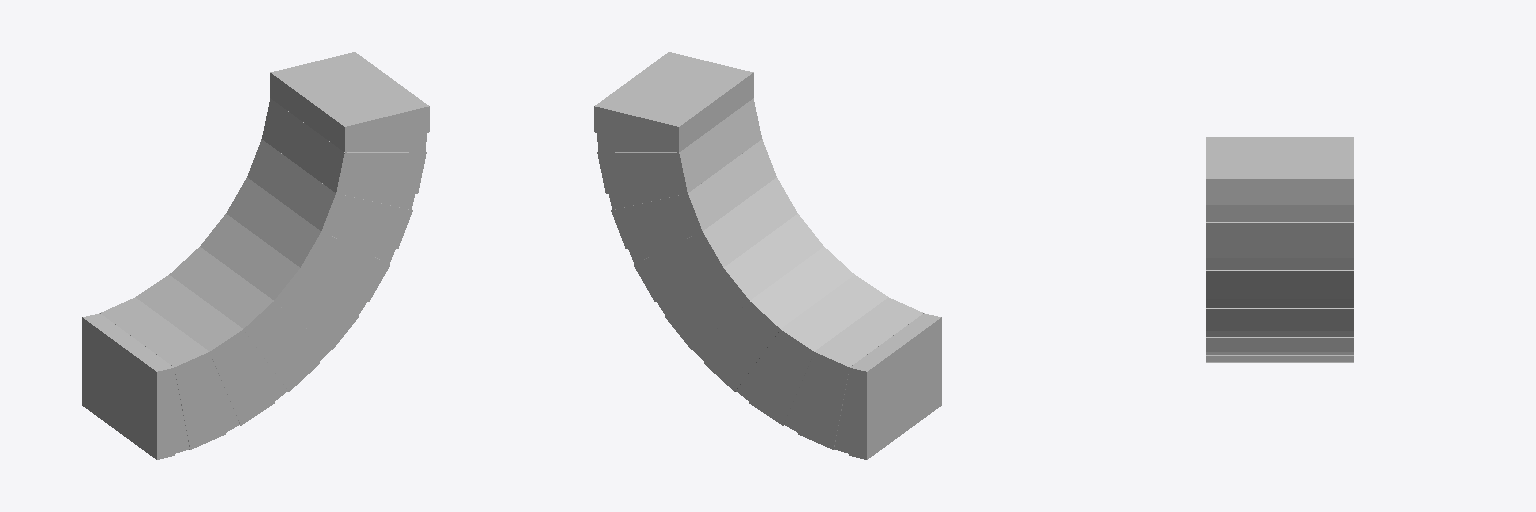
The model's file is mt_arch_large_bottom.obj.
The picture shows the model from 3 angles: view 1: azimuth 30°, elevation 25°; view 2: azimuth 150°, elevation 25°; view 3: azimuth 270°, elevation 25°; orthographic projection.
Parts seen in each view (by area): view 1: cube; view 2: cube; view 3: cube.
Part boxes in pixels (left/top/right/bottom): cube: left=82, top=52, right=429, bottom=459; cube: left=594, top=52, right=941, bottom=459; cube: left=1206, top=137, right=1353, bottom=362.
Bounding box in the file's own units: 2.15 × 2.17 × 1.02.